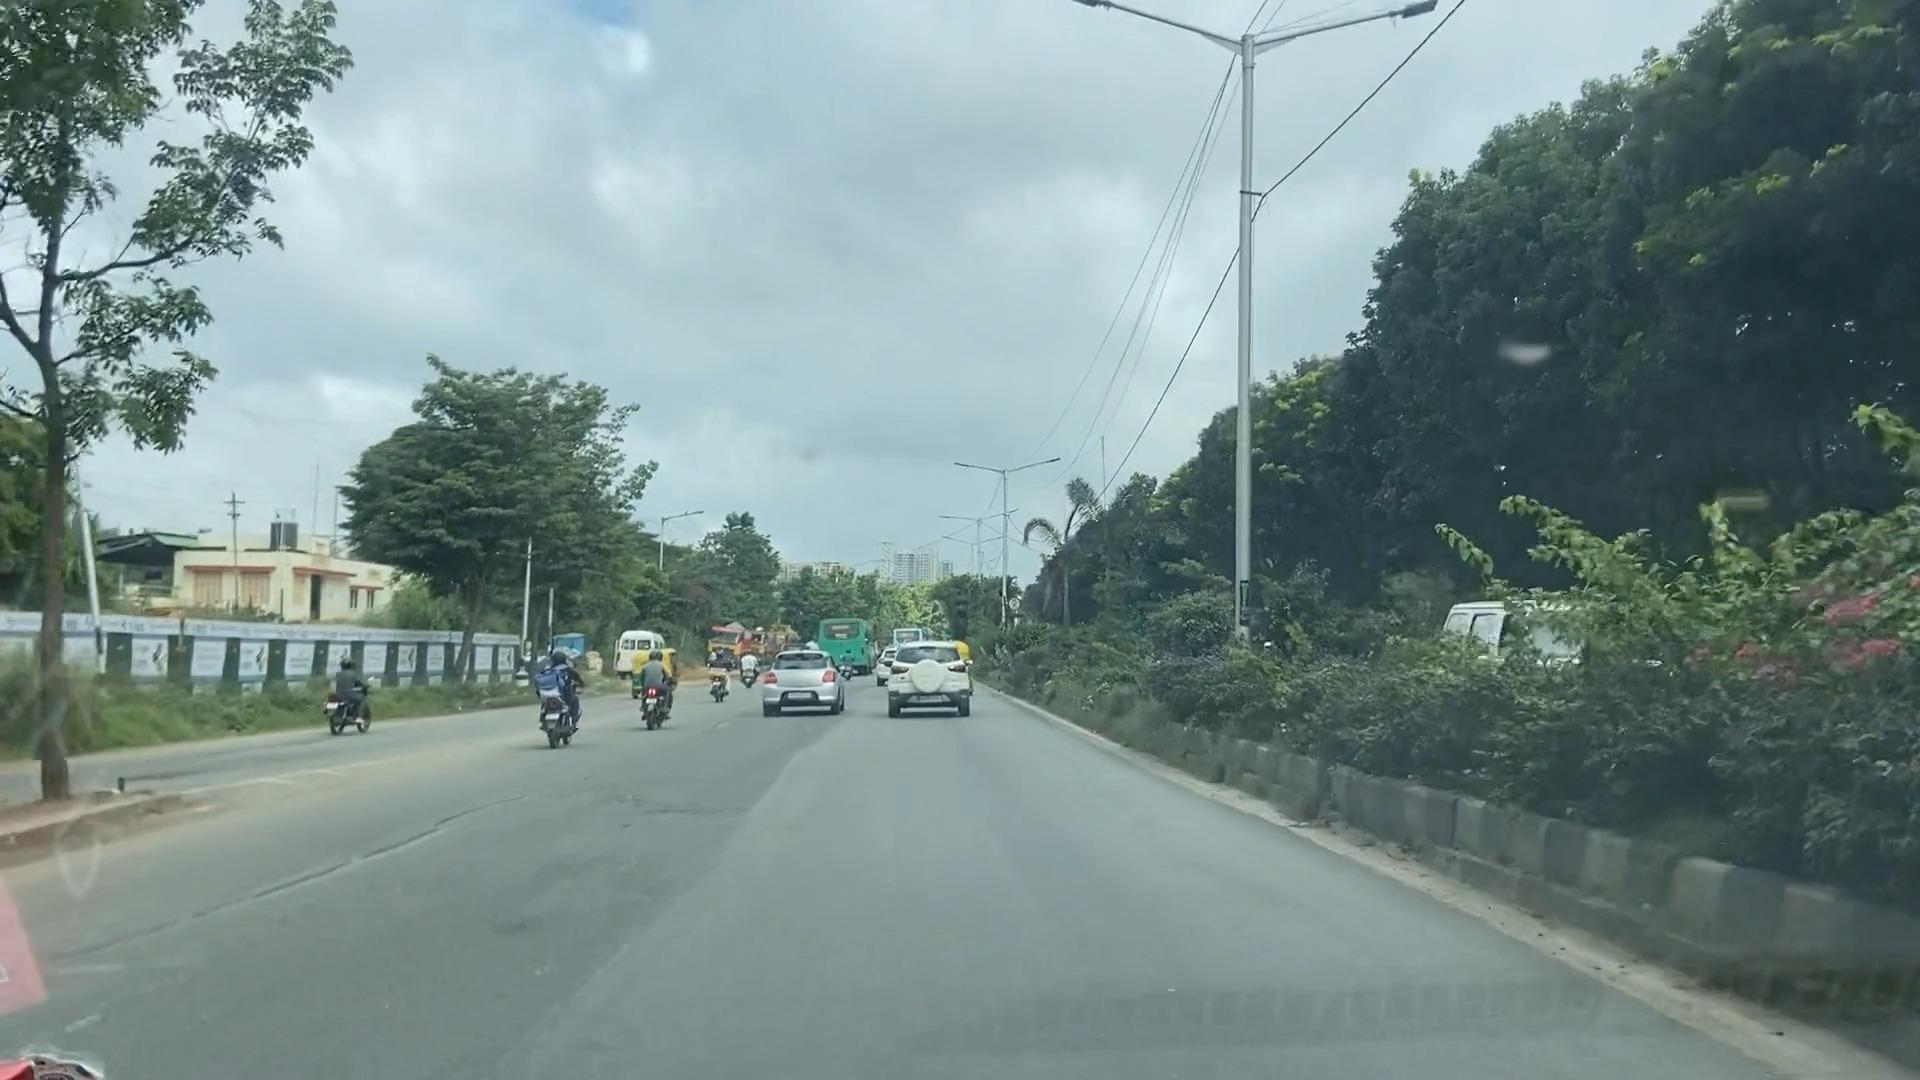LMV: (749, 634, 849, 728), (874, 626, 973, 716), (531, 634, 600, 750), (319, 651, 384, 748), (630, 634, 684, 740)
RoadDamages: (348, 770, 582, 873)
